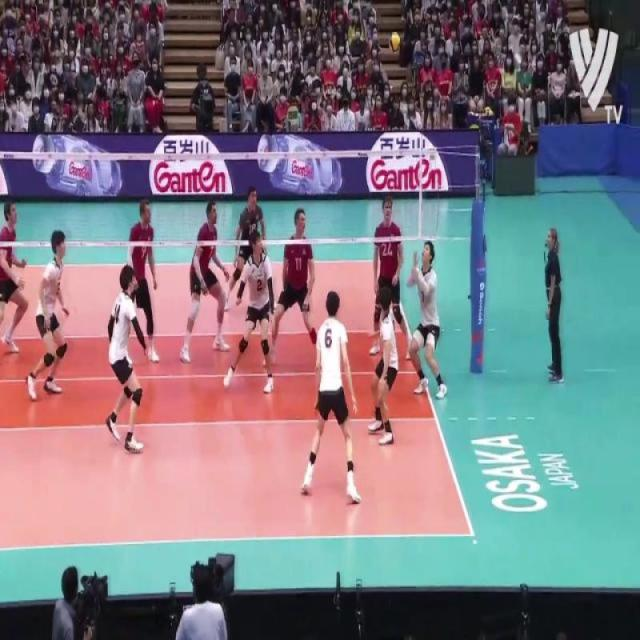volleyball: (388, 32, 402, 54)
